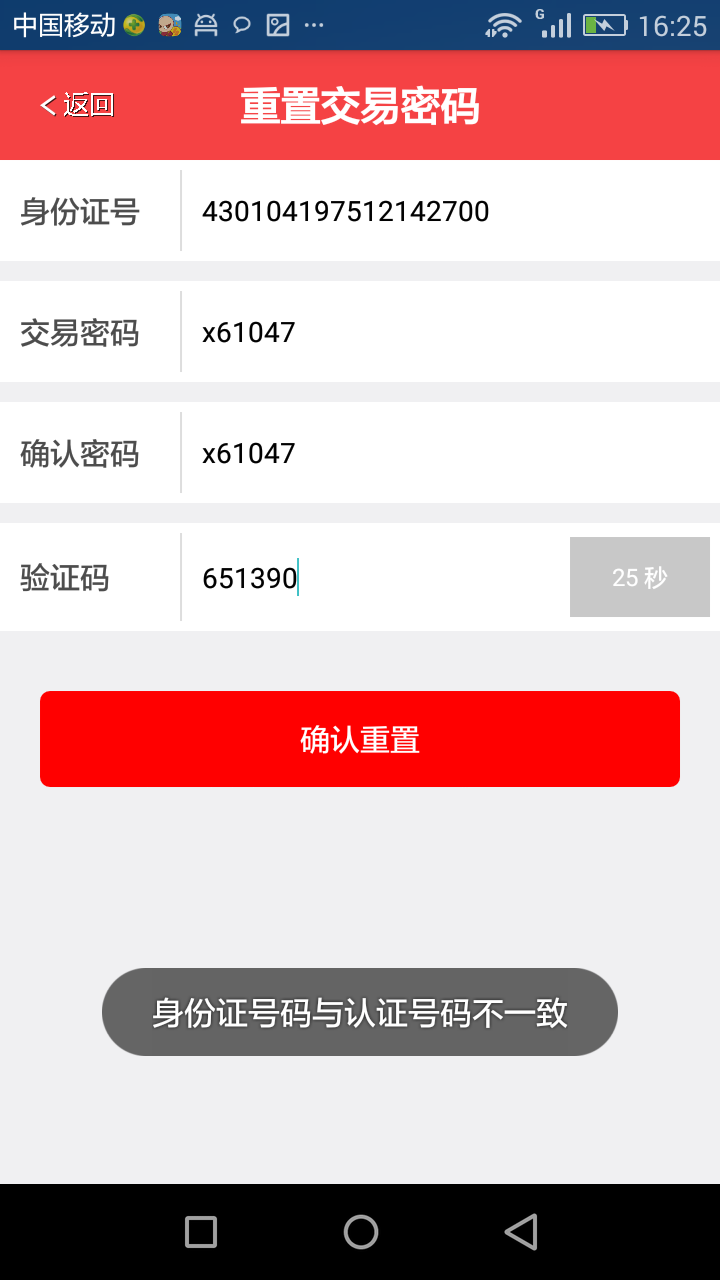alert: (98, 960, 629, 1064)
